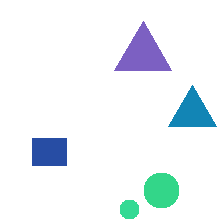circle: (144, 173, 178, 207), (120, 200, 138, 218)
rectangle: (32, 138, 66, 165)
triangle: (114, 21, 171, 70), (168, 85, 216, 126)
